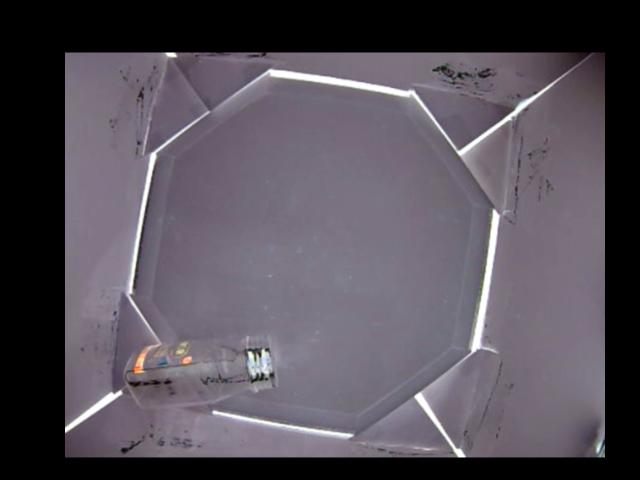Bottle: (122, 334, 280, 411)
